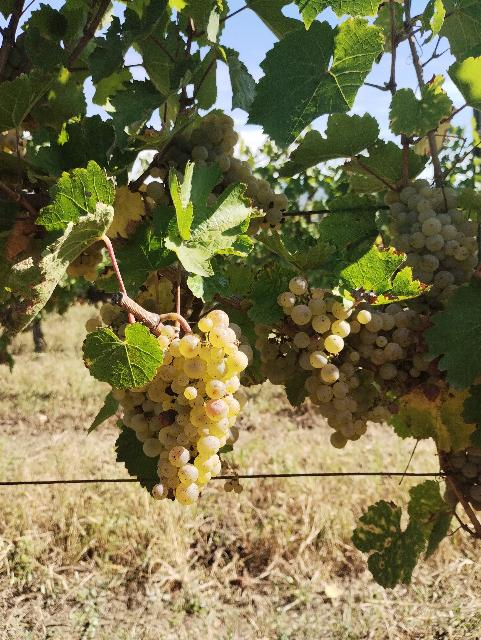grapes: (261, 276, 420, 449), (144, 310, 250, 504), (385, 180, 480, 299)
